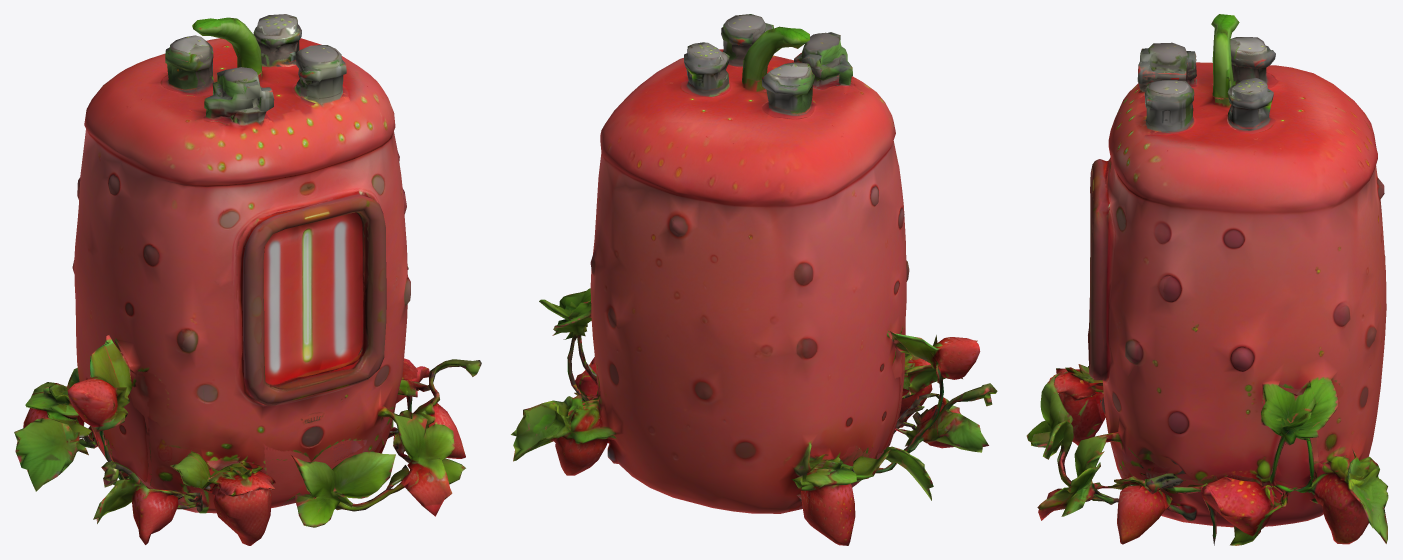
Rendered from Meshy_AI_Strawberry_Power_Sour_1229171523_texture.fbx.
The picture shows the model from 3 angles, left to right: view 1: azimuth 30°, elevation 25°; view 2: azimuth 150°, elevation 25°; view 3: azimuth 270°, elevation 25°; orthographic projection. The views are drawn at different scales.
Parts seen in each view (by area): view 1: Mesh_0; view 2: Mesh_0; view 3: Mesh_0.
Part boxes in pixels (x1,y1,x2,y2): Mesh_0: (14, 14, 481, 545); Mesh_0: (511, 14, 997, 545); Mesh_0: (1026, 14, 1388, 545).
Size of the model in its own units: 181 by 201 by 147.
1 material, 1 textured.
